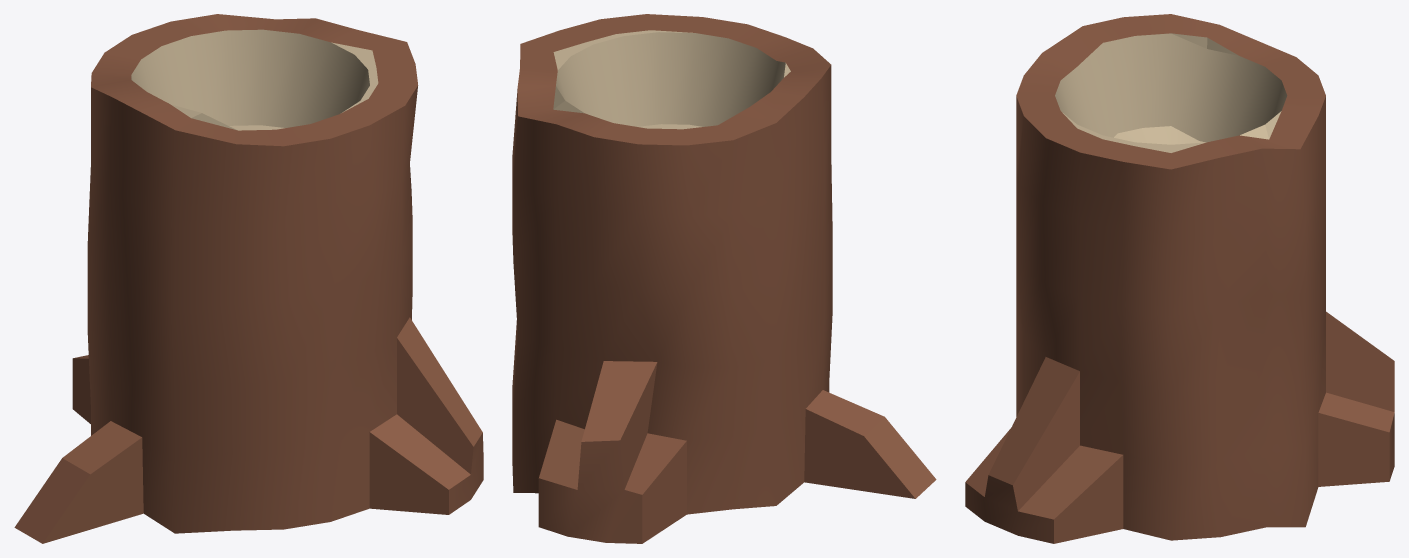
File: Stump1.fbx
The picture shows the model from 3 angles, left to right: view 1: azimuth 30°, elevation 25°; view 2: azimuth 150°, elevation 25°; view 3: azimuth 270°, elevation 25°; orthographic projection. The views are drawn at different scales.
Parts seen in each view (by area): view 1: Stump_1; view 2: Stump_1; view 3: Stump_1.
Boxes of the visible parts, x1,y1,x2,y2 form: Stump_1: (14, 14, 483, 543); Stump_1: (512, 14, 936, 543); Stump_1: (965, 14, 1394, 543).
Bounding box in the file's own units: 3 × 2.94 × 2.77.
